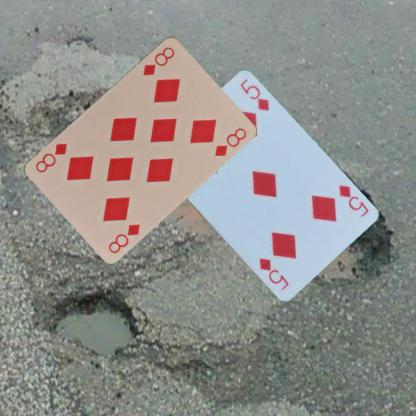5d: (336, 181, 370, 218)
8d: (140, 43, 177, 77), (106, 221, 142, 254)
